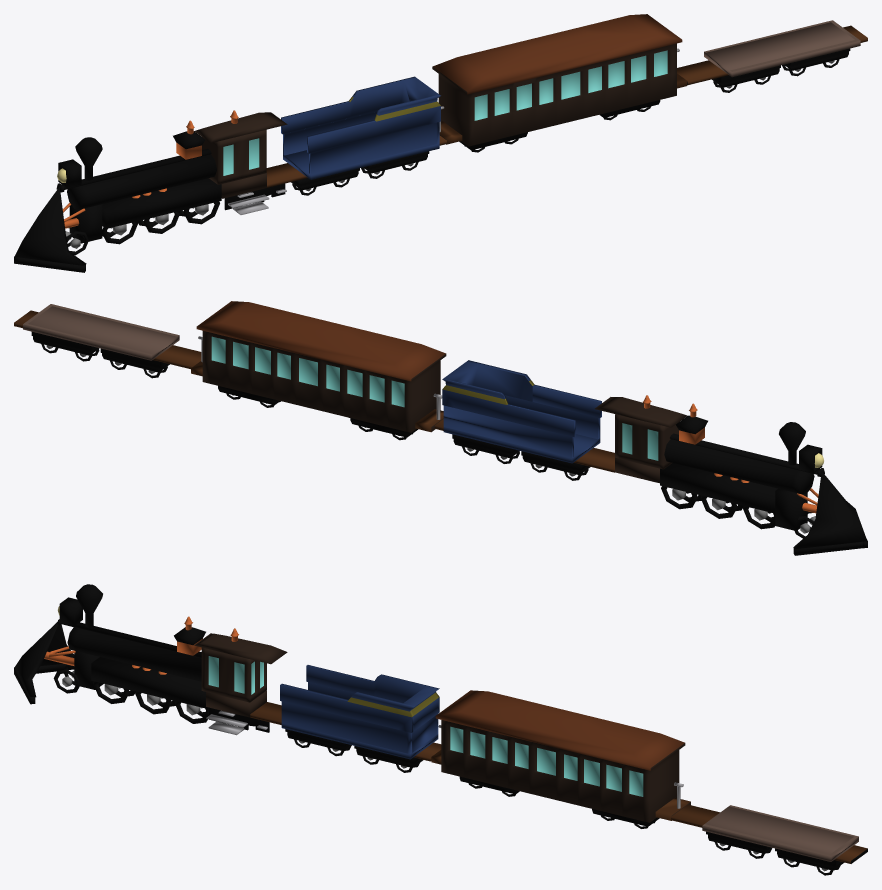
Rendered from train_new.fbx.
3 views of the same model, one above another, from view 1: azimuth 30°, elevation 25°; view 2: azimuth 150°, elevation 25°; view 3: azimuth 330°, elevation 25° (orthographic).
Visible parts, largest first — view 1: passanger wagon, train, open wagon, cargo hold, train wagon thing, stairs; view 2: passanger wagon, train, open wagon, cargo hold, train wagon thing; view 3: passanger wagon, train, open wagon, cargo hold, train wagon thing, stairs.
Boxes of the visible parts, x1,y1,x2,y2 form: passanger wagon: [432, 14, 687, 152]; train: [14, 120, 221, 272]; open wagon: [266, 76, 446, 195]; cargo hold: [677, 20, 867, 92]; train wagon thing: [194, 110, 287, 198]; stairs: [224, 183, 286, 214]; passanger wagon: [191, 301, 446, 440]; train: [660, 403, 867, 555]; open wagon: [434, 360, 614, 480]; cargo hold: [14, 304, 201, 378]; train wagon thing: [594, 395, 687, 483]; passanger wagon: [431, 690, 690, 828]; train: [14, 584, 208, 723]; open wagon: [250, 665, 441, 772]; cargo hold: [671, 804, 867, 875]; train wagon thing: [194, 628, 287, 717]; stairs: [206, 707, 269, 735].
Bounding box in the file's own units: 1929 × 235 × 212.
